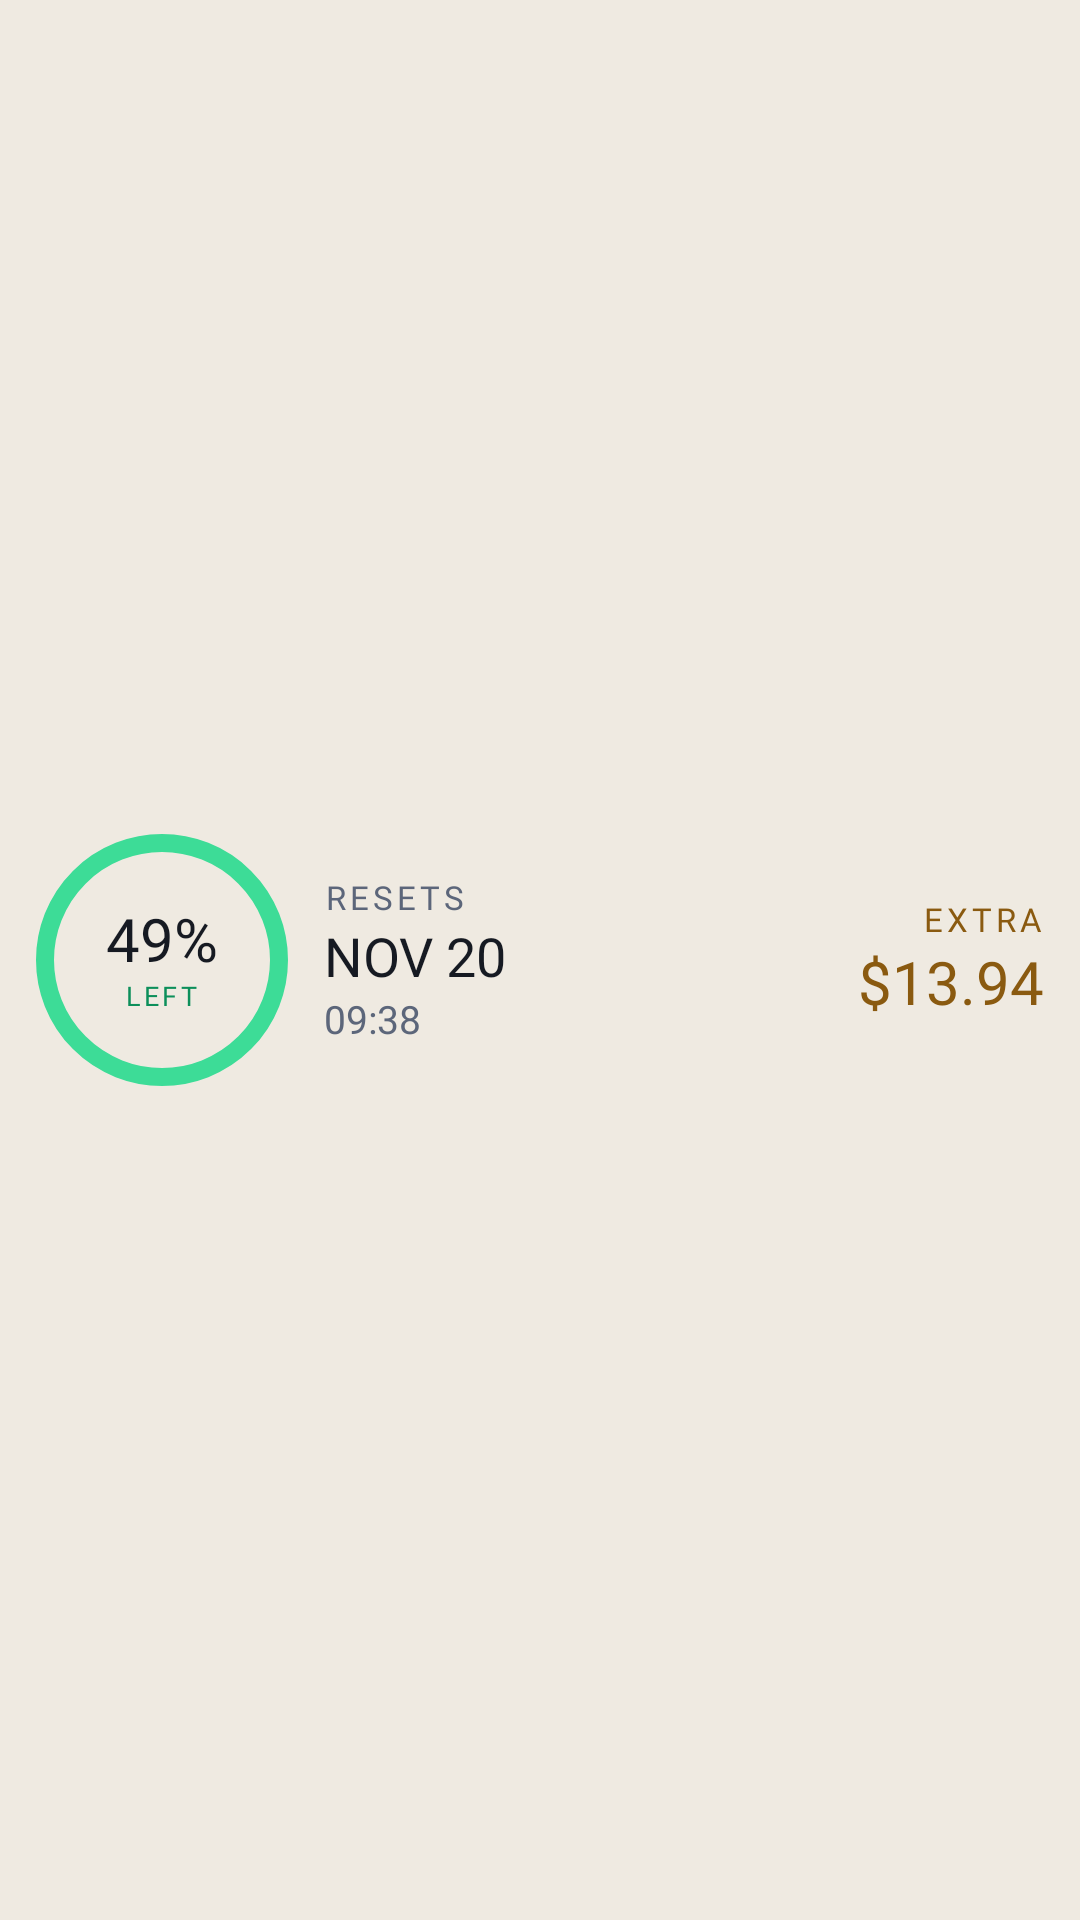

Where to tap for icons on this 1080x1920 app screen, as [x,y]:
Weekly limit: [162,960]
